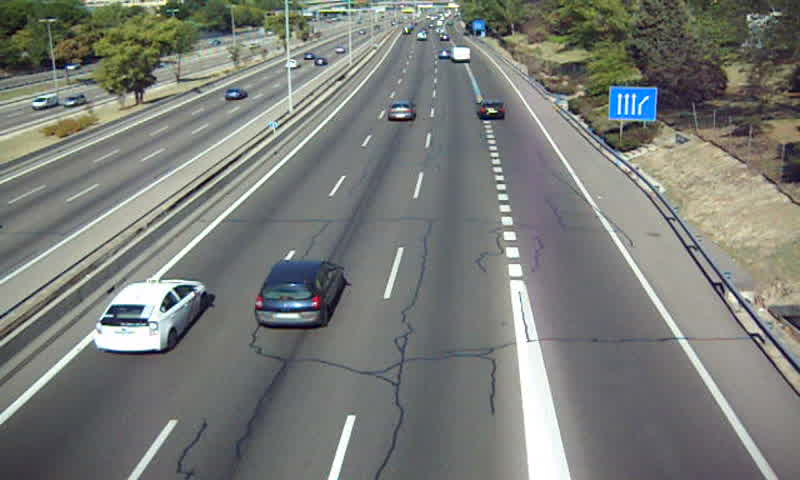car: (95, 280, 206, 351), (254, 260, 344, 329), (387, 101, 416, 124), (475, 100, 506, 120)
van: (450, 47, 472, 62)
